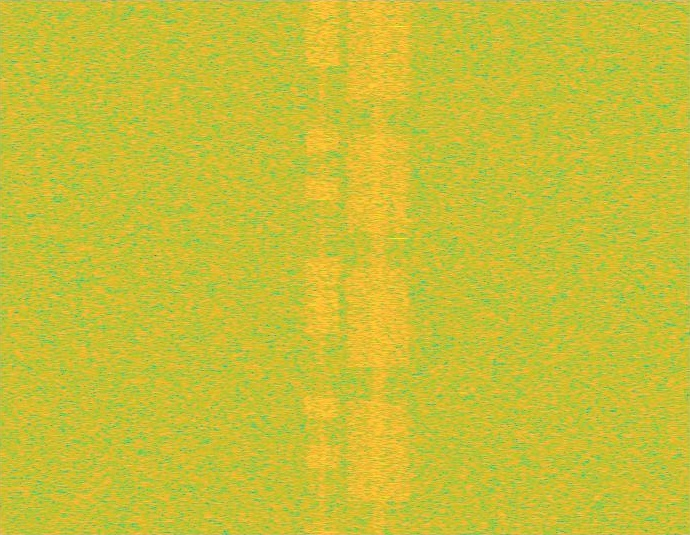5G: (344, 0, 413, 534)
DSSS: (371, 0, 386, 534), (320, 0, 324, 534)
LTE: (305, 0, 339, 534)
Radar: (392, 0, 406, 534)
